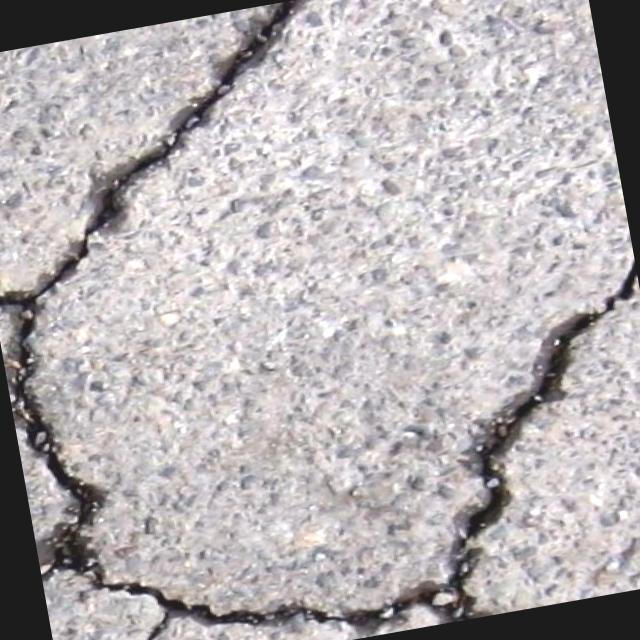crack: (0, 172, 192, 640), (411, 259, 640, 541), (82, 1, 338, 216), (177, 535, 498, 640)
